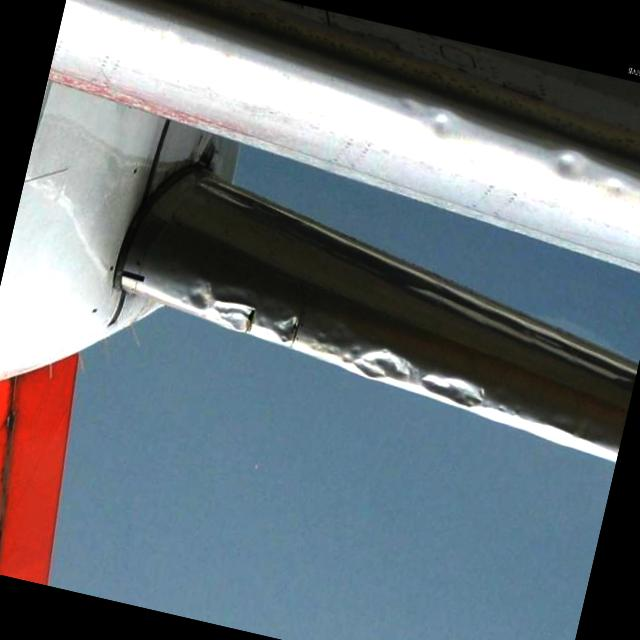dent: (346, 338, 422, 397), (392, 92, 467, 146), (414, 364, 490, 415), (212, 291, 259, 338), (542, 146, 590, 188), (270, 306, 306, 346), (184, 276, 218, 315)
